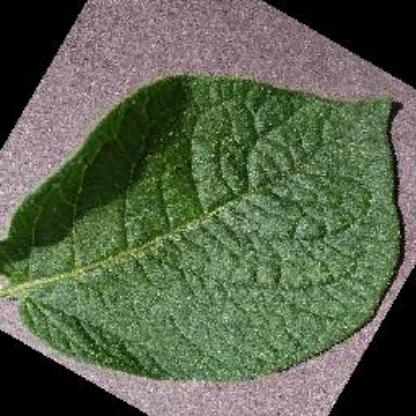Healthy-plant: (6, 74, 406, 383)
